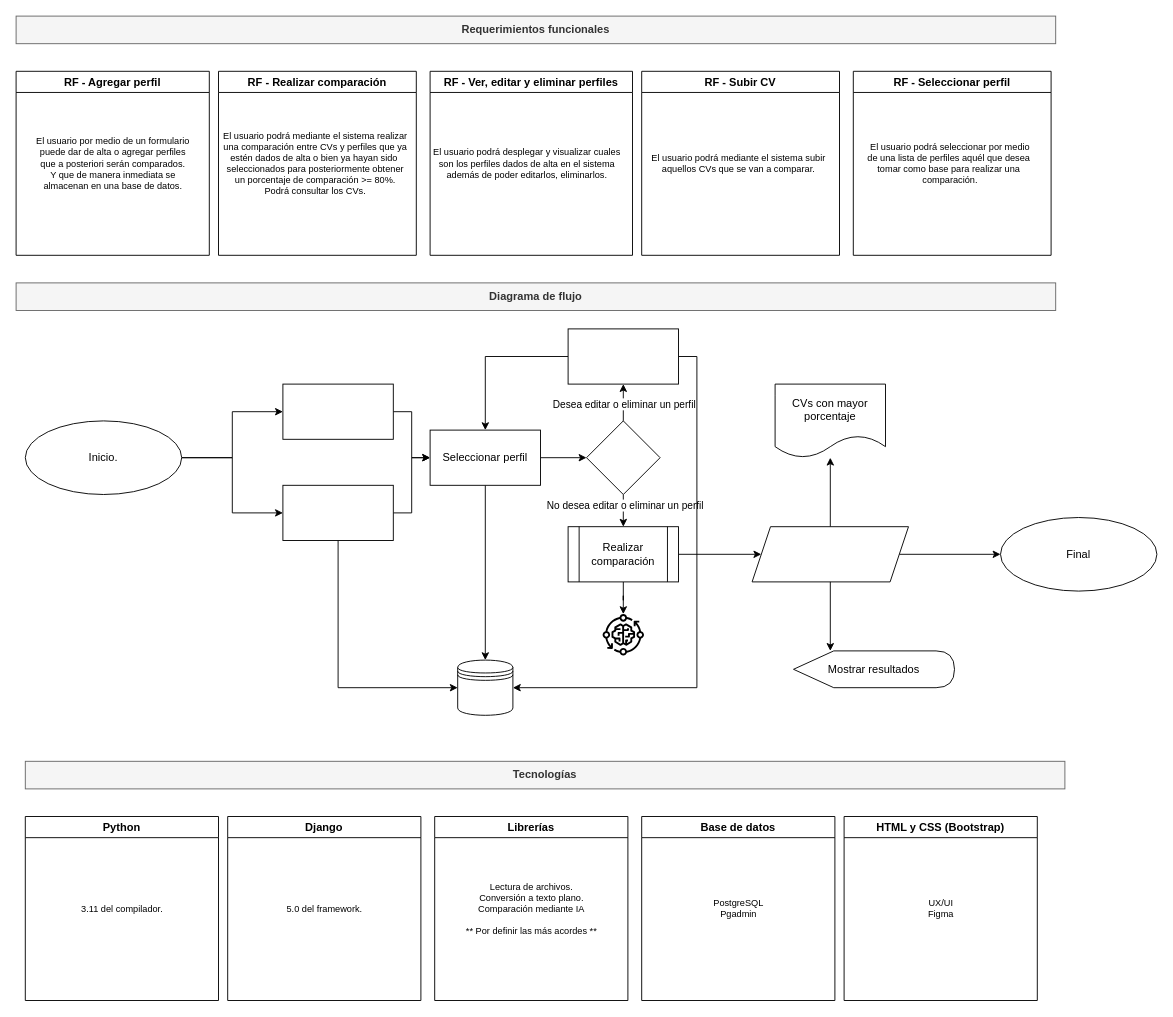
Some shapes in this 1173 by 1017 pixel diagram are drawn without their labels. The centre of each missing label's shape, as x and y in pixels:
BD de sistema: (x=485, y=687)
Crear perfil: (x=337, y=512)
Editar / Eliminar un perfil: (x=622, y=356)
Generar resultados: (x=829, y=554)
Si / No: (x=623, y=457)
Subir CV: (x=337, y=411)
